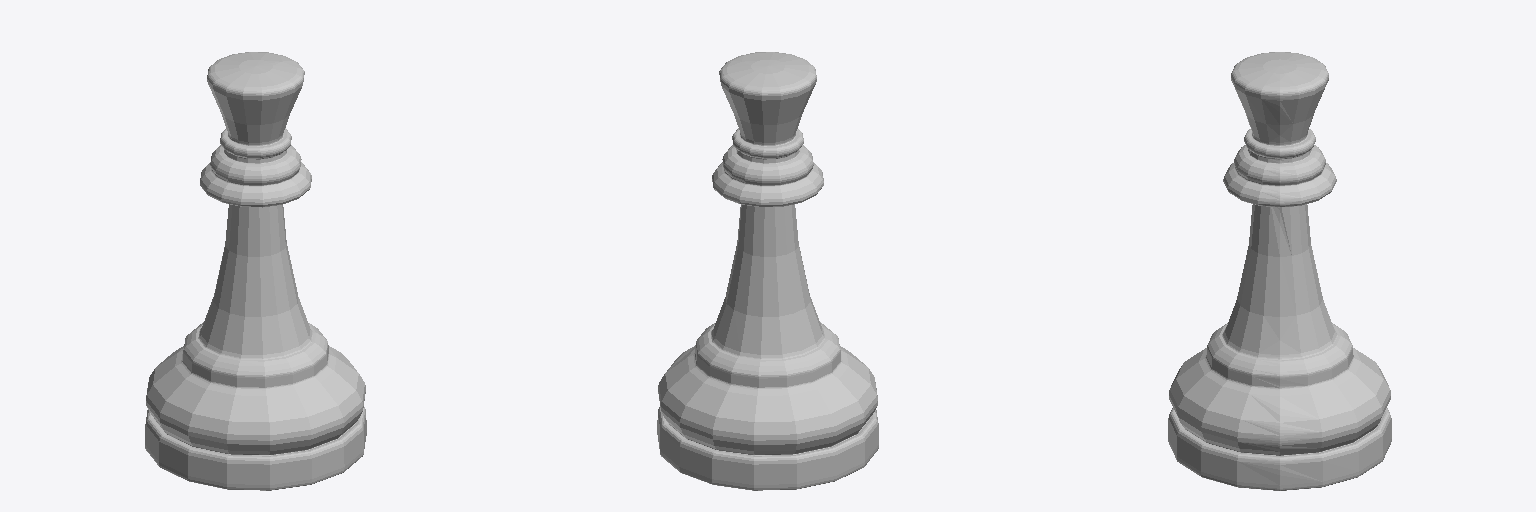
Rendered from queen.obj.
3 renders of one model, left to right at view 1: azimuth 30°, elevation 25°; view 2: azimuth 150°, elevation 25°; view 3: azimuth 270°, elevation 25°, orthographic.
Visible parts, largest first — view 1: revolvedSurface2; view 2: revolvedSurface2; view 3: revolvedSurface2.
Part boxes in pixels (bbox=[...]): revolvedSurface2: bbox=[145, 52, 366, 490]; revolvedSurface2: bbox=[657, 52, 878, 490]; revolvedSurface2: bbox=[1168, 52, 1391, 490].
Size of the model in its own units: 1.52 by 2.85 by 1.52.